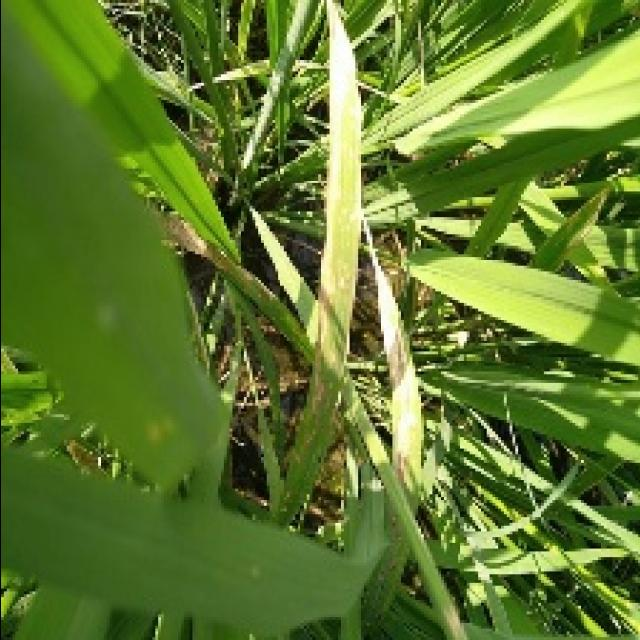Unhealthy: (311, 0, 360, 414), (360, 207, 422, 496), (146, 412, 176, 446), (93, 302, 120, 336)
